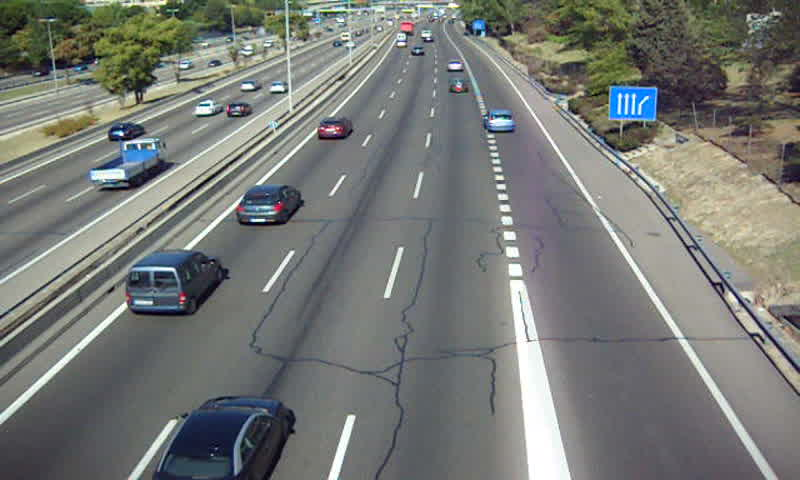car: (155, 398, 284, 480), (237, 186, 302, 223), (316, 117, 353, 138), (484, 108, 516, 132), (447, 78, 468, 93), (446, 58, 464, 70)
van: (126, 251, 224, 312)
